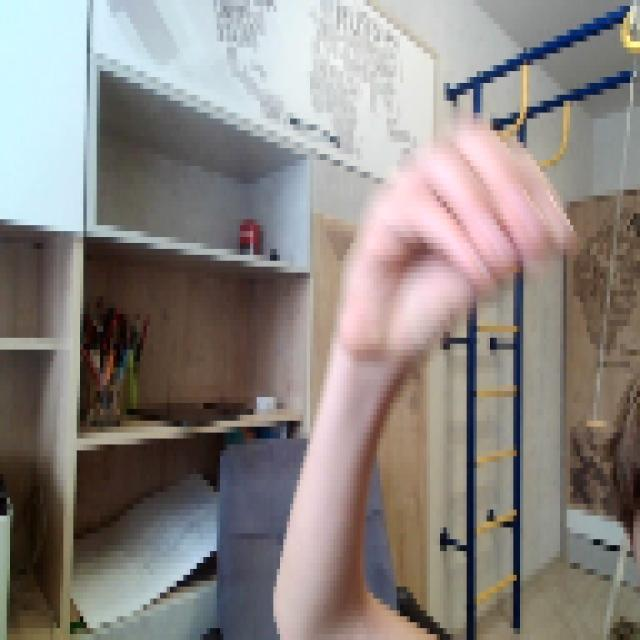left_click: (333, 107, 577, 356)
